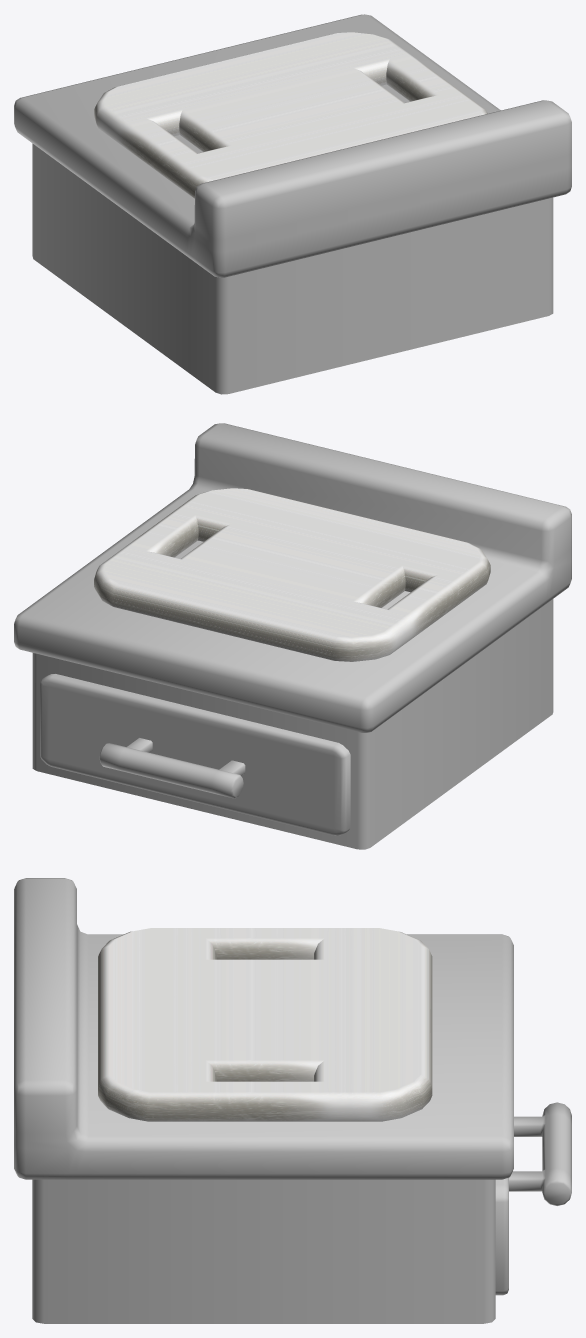
The model's file is Table_Chop.fbx.
The picture shows the model from 3 angles, top to bottom: view 1: azimuth 30°, elevation 25°; view 2: azimuth 150°, elevation 25°; view 3: azimuth 270°, elevation 25°; orthographic projection. The views are drawn at different scales.
Parts seen in each view (by area): view 1: Mesh, ChoppingBoard2.002; view 2: Mesh, ChoppingBoard2.002; view 3: Mesh, ChoppingBoard2.002.
Boxes of the visible parts, x1,y1,x2,y2 form: Mesh: (14, 14, 571, 394); ChoppingBoard2.002: (94, 32, 487, 198); Mesh: (14, 423, 571, 849); ChoppingBoard2.002: (94, 488, 490, 661); Mesh: (14, 878, 571, 1323); ChoppingBoard2.002: (98, 928, 432, 1121).
Size of the model in its own units: 120 by 64.9 by 134.
